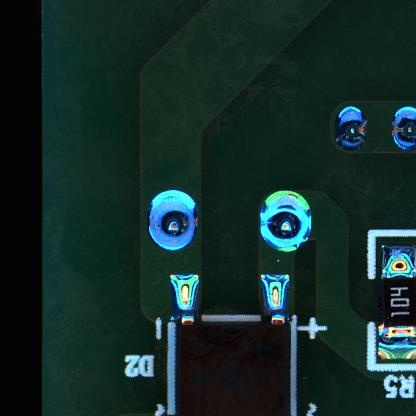spot: (147, 189, 200, 250), (260, 191, 312, 251), (336, 105, 368, 155), (391, 106, 416, 153)
